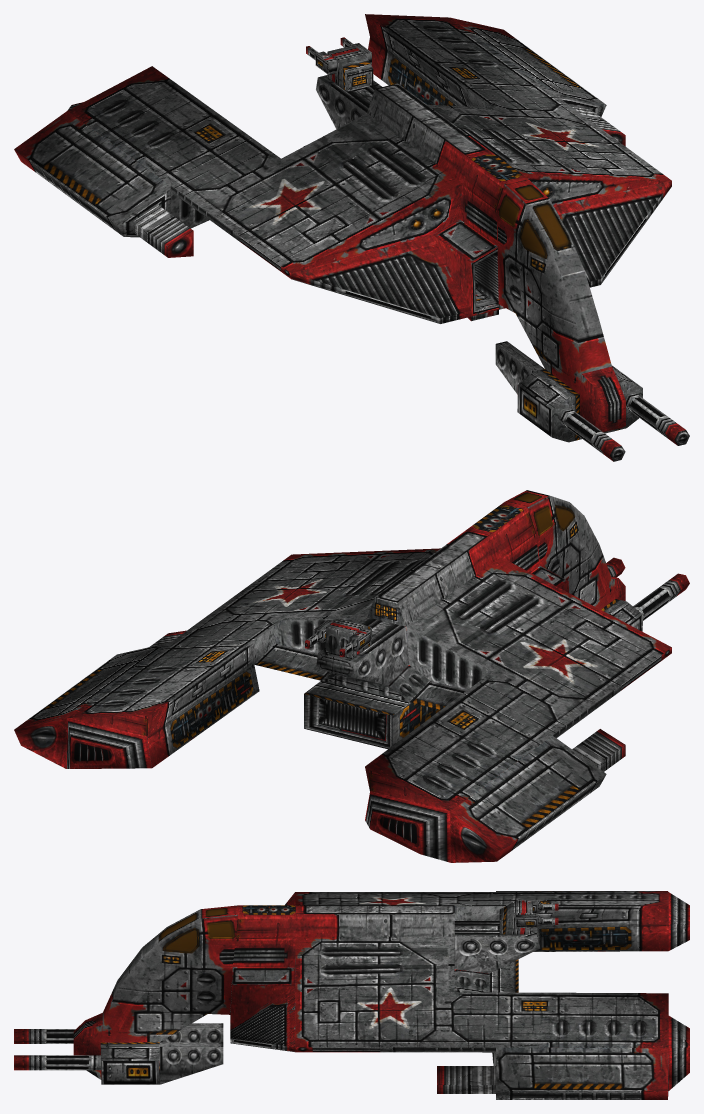
Rendered from basilisk.glb.
3 views of the same model, one above another, from view 1: azimuth 30°, elevation 25°; view 2: azimuth 150°, elevation 25°; view 3: azimuth 270°, elevation 25° (orthographic). The views are drawn at different scales.
Visible parts, largest first — view 1: Basalisk, Basalisk Cpit; view 2: Basalisk, Basalisk Cpit; view 3: Basalisk, Basalisk Cpit.
Part boxes in pixels (x1,y1,x2,y2): Basalisk: [14, 14, 689, 461]; Basalisk Cpit: [459, 153, 584, 277]; Basalisk: [14, 516, 689, 862]; Basalisk Cpit: [470, 490, 584, 572]; Basalisk: [14, 891, 689, 1099]; Basalisk Cpit: [142, 905, 295, 968].
Bounding box in the file's own units: 1239 × 478 × 1770.
2 materials, 2 textured.
